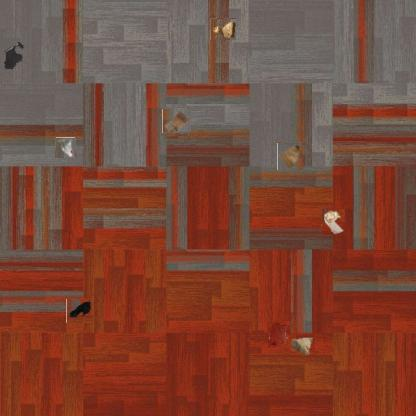dirty: (164, 108, 190, 135), (277, 142, 302, 170), (67, 299, 93, 324), (320, 210, 346, 234), (289, 335, 315, 357), (210, 18, 236, 40), (55, 138, 76, 158)
liquid: (2, 41, 26, 71), (268, 321, 290, 347)
